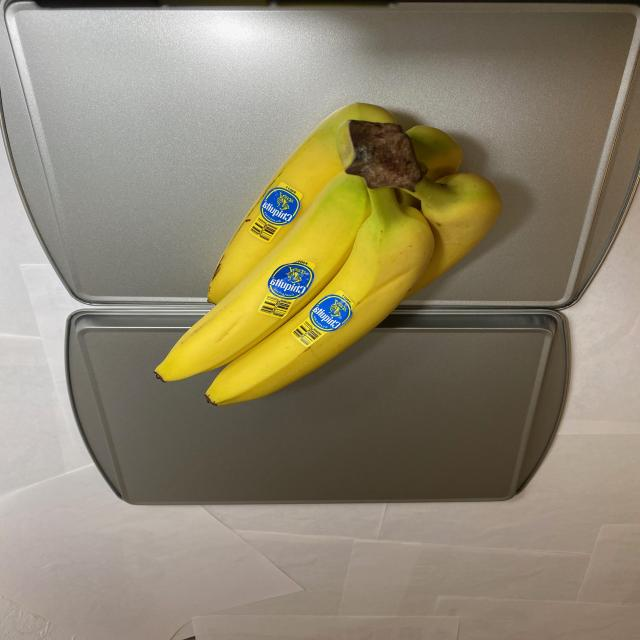banana: (156, 101, 505, 410)
